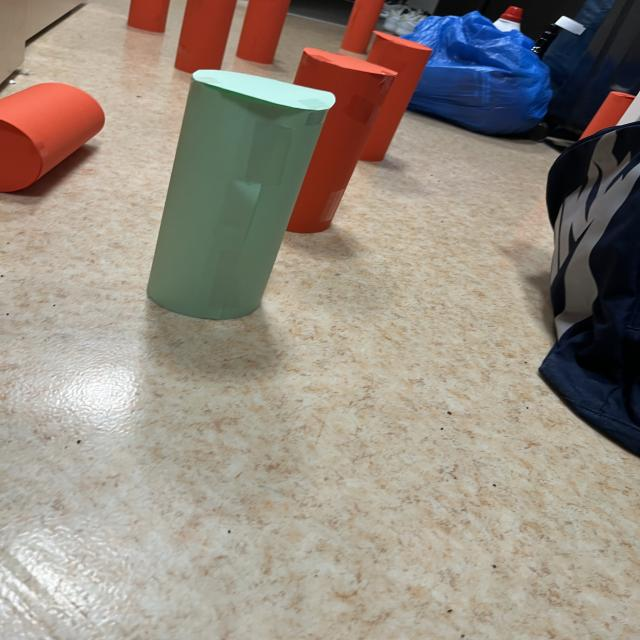meta: (147, 70, 335, 320)
przeszkoda: (287, 48, 397, 233), (0, 83, 105, 192), (360, 31, 432, 161), (175, 0, 237, 74), (236, 0, 290, 64), (342, 0, 385, 54), (128, 0, 169, 33)
